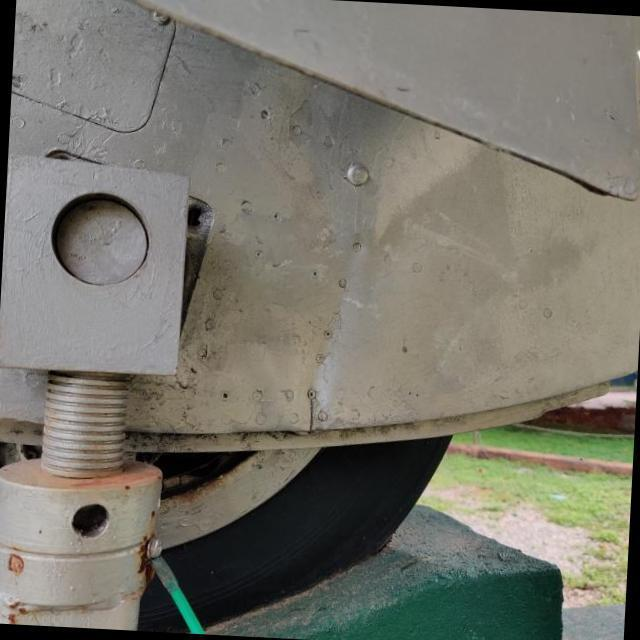Rupture: (296, 388, 332, 438)
